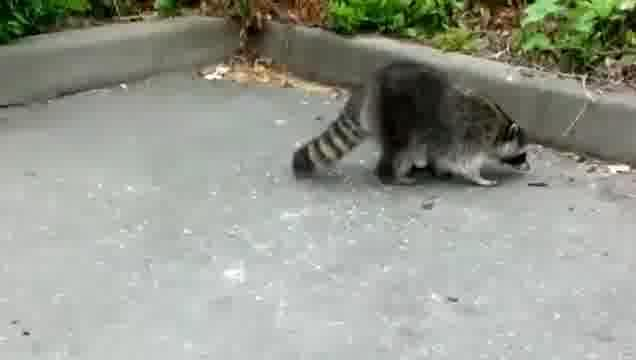raccoon: (289, 58, 533, 191)
